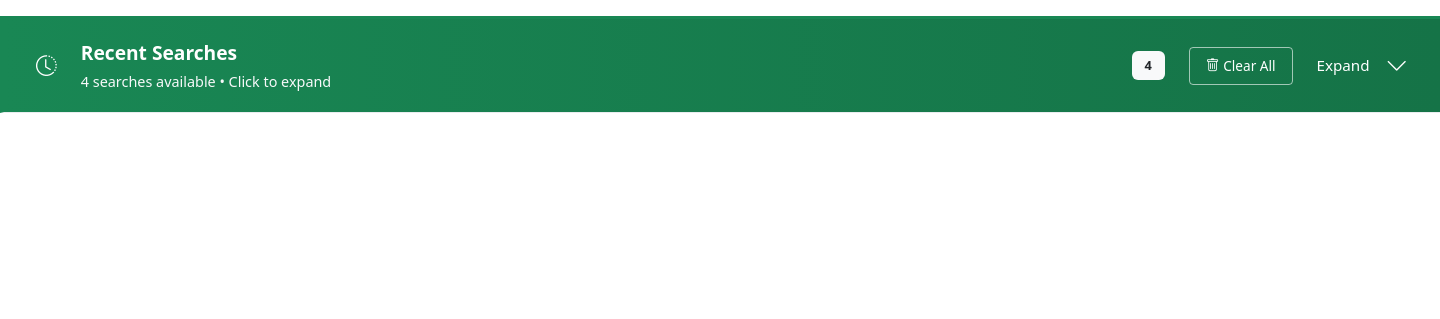
BreadcrumbsSection › Navigation › navigates to next page when next button is clicked
The image size is (1440, 319).
Click the text "Recent Searches".
click(159, 52)  # box [81,39,237,66]
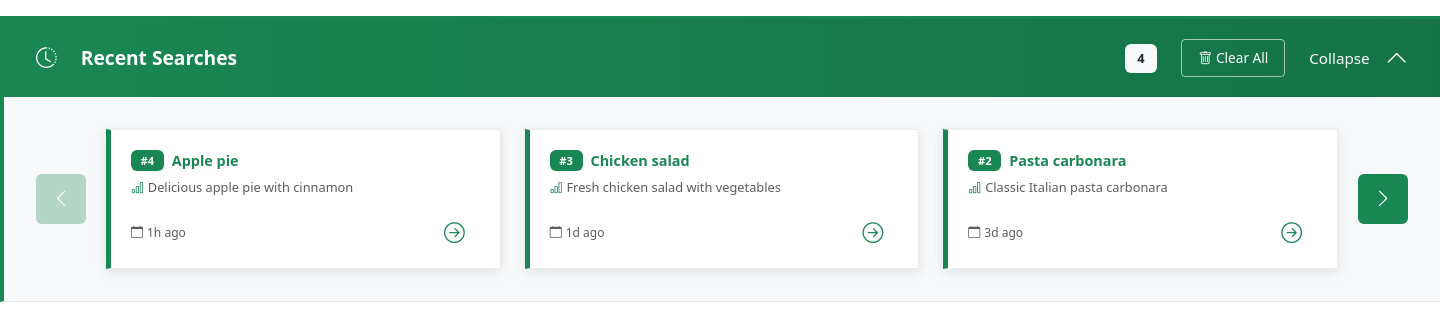
Click the button with class "bi-chevron-right".
click(1383, 199)  # box [1358,174,1408,224]
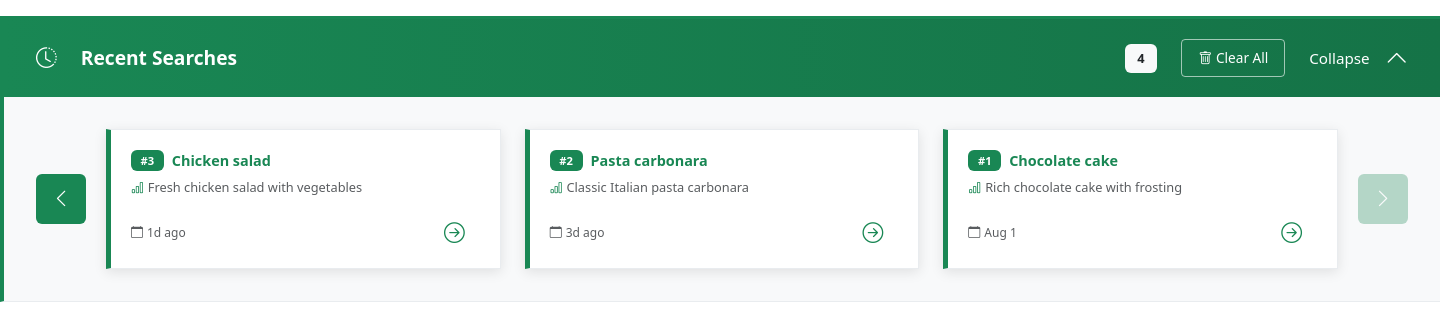
Expected: the heading "Chocolate cake" is shown, [1009,152,1118,169]
Expected: the text "Delicious apple pie with cinnamon" is gone
